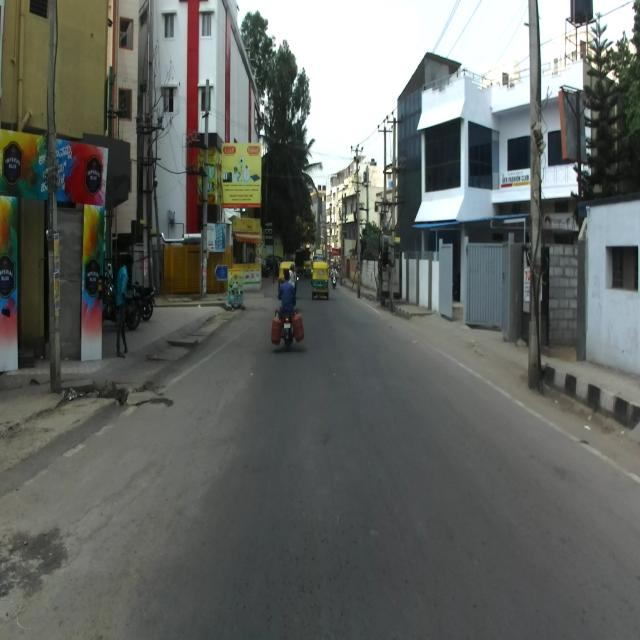electric pole ahead at: (520, 1, 552, 390), (40, 0, 71, 392), (137, 0, 164, 290)
